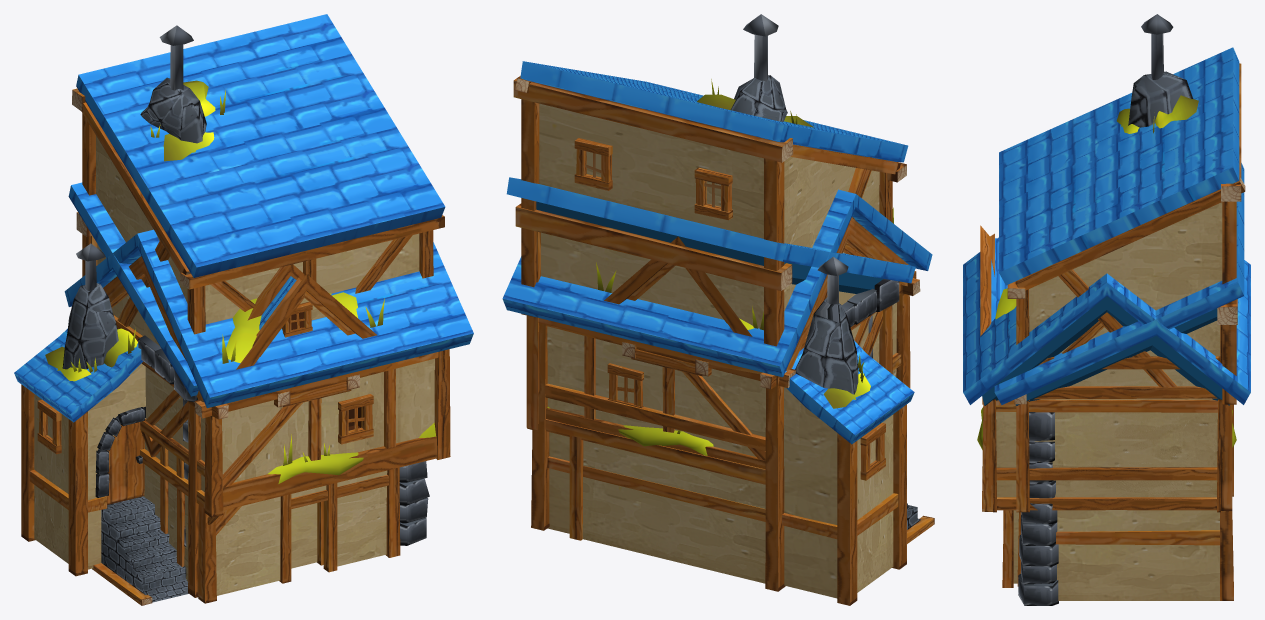
Rendered from building_01.fbx.
3 renders of one model, left to right at view 1: azimuth 30°, elevation 25°; view 2: azimuth 150°, elevation 25°; view 3: azimuth 270°, elevation 25°, orthographic. The views are drawn at different scales.
Visible parts, largest first — view 1: hut_02, hut_03, hutbulks_03, hutbulks_02, hut_rocks_02.001, hut_01, hutbulks_01, grass.03, grass.001; view 2: hut_02, hut_01, hutbulks_02, hut_03, hutbulks_01, hutbulks_03, hut_rocks_02.001, grass.03, grass.001; view 3: hut_02, hut_03, hutbulks_02, hut_01, hutbulks_03, hut_rocks_02.001, hutbulks_01, grass.001, grass.03.
Part boxes in pixels (<box>): hut_02: <box>14,14,445,569</box>; hut_03: <box>64,229,473,595</box>; hutbulks_03: <box>103,256,450,603</box>; hutbulks_02: <box>21,25,444,605</box>; hut_rocks_02.001: <box>62,77,429,602</box>; hut_01: <box>68,182,305,582</box>; hutbulks_01: <box>76,212,323,597</box>; grass.03: <box>222,292,436,483</box>; grass.001: <box>45,80,225,381</box>; hut_02: <box>520,61,914,598</box>; hut_01: <box>506,177,915,583</box>; hutbulks_02: <box>513,14,934,605</box>; hut_03: <box>502,189,932,377</box>; hutbulks_01: <box>515,203,892,540</box>; hutbulks_03: <box>527,217,920,484</box>; hut_rocks_02.001: <box>585,75,920,529</box>; grass.03: <box>547,207,893,455</box>; grass.001: <box>697,79,870,408</box>; hut_02: <box>999,47,1239,600</box>; hut_03: <box>963,225,1250,583</box>; hutbulks_02: <box>1007,14,1245,600</box>; hut_01: <box>994,163,1244,497</box>; hutbulks_03: <box>982,233,1231,587</box>; hut_rocks_02.001: <box>1018,71,1193,605</box>; hutbulks_01: <box>1016,299,1237,586</box>; grass.001: <box>1116,95,1198,133</box>; grass.03: <box>977,288,1236,449</box>.
Bounding box in the file's own units: 8.39 × 12.55 × 6.49.
